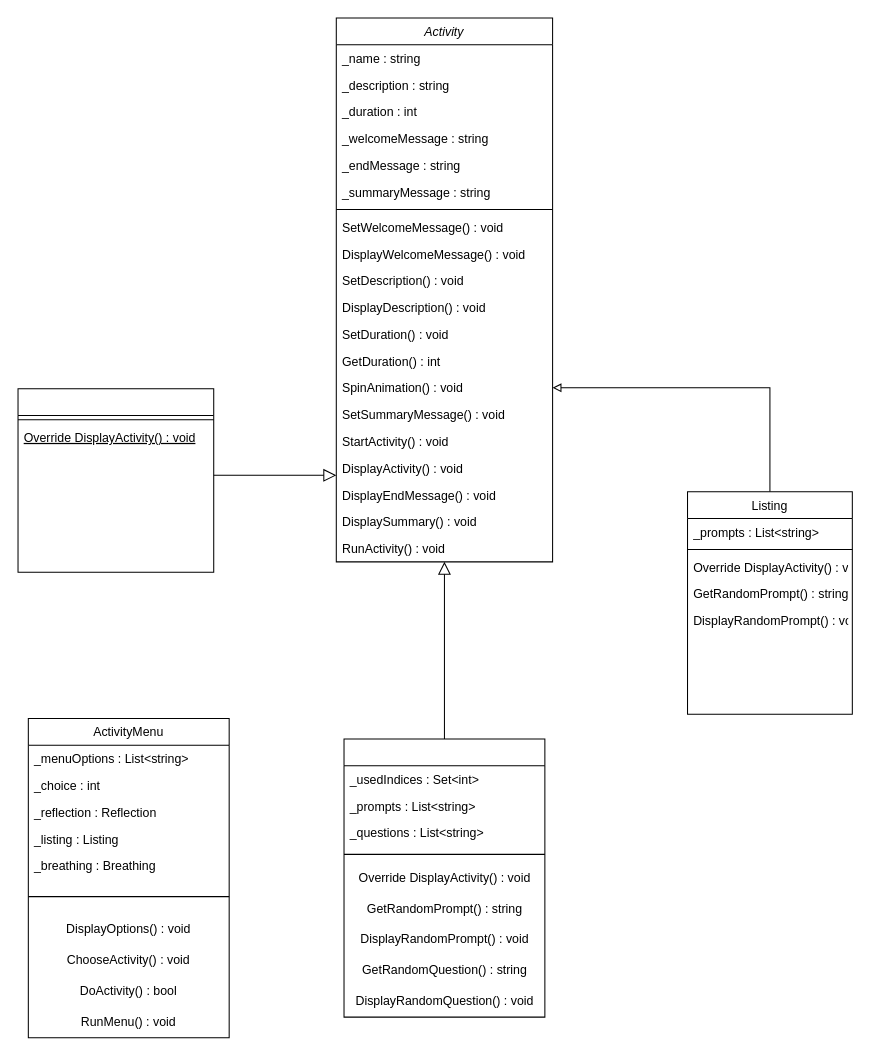
This 882x1056 diagram has some shape labels left out. The shapes that lost their labels are listed below. From the top down, each one's box as (x1, y1, x2, y2) in pixels, then its label:
(17, 388, 214, 572): Breathing
(343, 738, 545, 1017): Reflection
